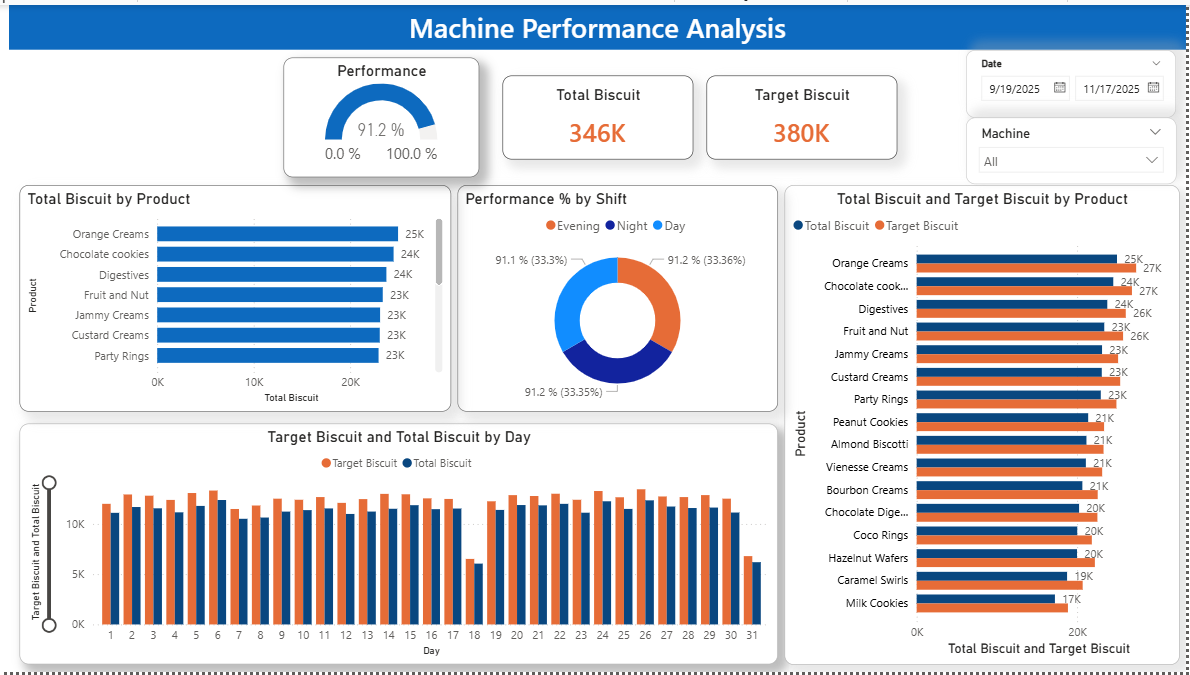

What the dashboard file says about the page in this screenshot:
{"tool":"powerbi","page":{"name":"Performance","canvas":[1280,720],"ordinal":2},"visuals":[{"type":"clusteredColumnChart","fields":{"Category":["DIM_DATE.Date.Variation.Date Hierarchy.Year","DIM_DATE.Date.Variation.Date Hierarchy.Quarter","DIM_DATE.Date.Variation.Date Hierarchy.Month","DIM_DATE.Date.Variation.Date Hierarchy.Day"],"Y":["FACT_PRODUCTION.Target Biscuit","FACT_PRODUCTION.Total Biscuit"]},"box":[21.2,451.3,818.6,260.2],"z":0},{"type":"clusteredBarChart","fields":{"Category":["DIM_PRODUCT.Product"],"Y":["FACT_PRODUCTION.Total Biscuit","FACT_PRODUCTION.Target Biscuit"]},"box":[846.3,193.8,426.4,517.7],"z":1000},{"type":"donutChart","title":"Performance % by Shift","fields":{"Category":["DIM_SHIFT.Shift"],"Y":["FACT_PRODUCTION.Performance"]},"box":[493.7,193.8,346.1,244.6],"z":2000},{"type":"clusteredBarChart","fields":{"Category":["DIM_PRODUCT.Product"],"Y":["FACT_PRODUCTION.Total Biscuit"]},"box":[21.2,193.8,466,244.6],"z":3000},{"type":"shape","title":"fhgvjhbklhvghb","box":[9.6,0,1270.4,48.1],"z":4000},{"type":"gauge","fields":{"Y":["FACT_PRODUCTION.Performance"]},"box":[306.4,56.3,211.3,129.2],"z":5000},{"type":"cardVisual","title":"Total Biscuit","fields":{"Data":["FACT_PRODUCTION.Total Biscuit"]},"box":[541.7,75.7,205.8,90.4],"z":6000},{"type":"cardVisual","title":"Target Biscuit","fields":{"Data":["FACT_PRODUCTION.Target Biscuit"]},"box":[762.3,75.7,205.8,90.4],"z":7000},{"type":"slicer","fields":{"Values":["DIM_DATE.Date"]},"box":[1042.8,48.1,226.7,73.5],"z":8000},{"type":"slicer","fields":{"Values":["DIM_MACHINE.Machine"]},"box":[1042.8,121.8,227,72],"z":9000}]}

Visuals, with their boxes in screenshot pixels (x1, y1, x2, y2), scaled from the page's 1280x720 canvas onto the 1190x675 screenshot:
clusteredColumnChart - DIM_DATE.Date.Variation.Date Hierarchy.Year x DIM_DATE.Date.Variation.Date Hierarchy.Quarter: rect(20, 423, 781, 667)
clusteredBarChart - DIM_PRODUCT.Product x FACT_PRODUCTION.Total Biscuit: rect(787, 182, 1183, 667)
"Performance % by Shift" donutChart: rect(459, 182, 781, 411)
clusteredBarChart - DIM_PRODUCT.Product x FACT_PRODUCTION.Total Biscuit: rect(20, 182, 453, 411)
"fhgvjhbklhvghb" shape: rect(9, 0, 1189, 45)
gauge - FACT_PRODUCTION.Performance: rect(285, 53, 481, 174)
"Total Biscuit" cardVisual: rect(504, 71, 695, 156)
"Target Biscuit" cardVisual: rect(709, 71, 900, 156)
slicer - DIM_DATE.Date: rect(969, 45, 1180, 114)
slicer - DIM_MACHINE.Machine: rect(969, 114, 1181, 182)
